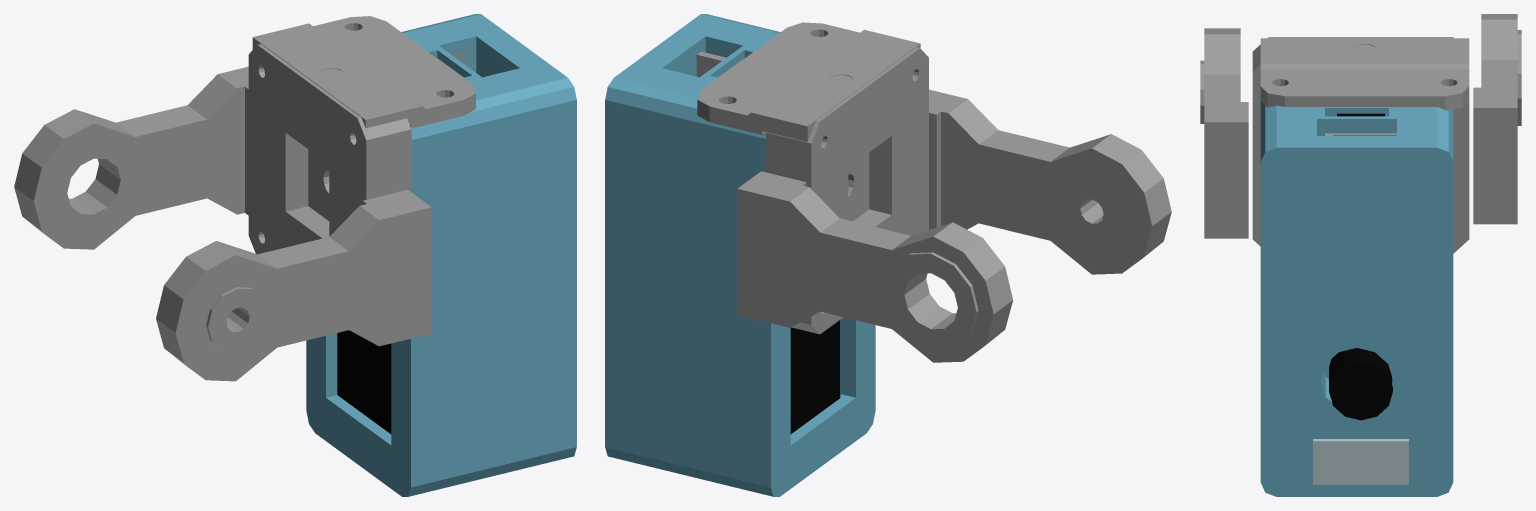
The model's file is head-reye-y.glb.
The picture shows the model from 3 angles, left to right: view 1: azimuth 30°, elevation 25°; view 2: azimuth 150°, elevation 25°; view 3: azimuth 270°, elevation 25°; orthographic projection. The views are drawn at different scales.
Bounding box in the file's own units: 0.0583 × 0.05 × 0.04.
